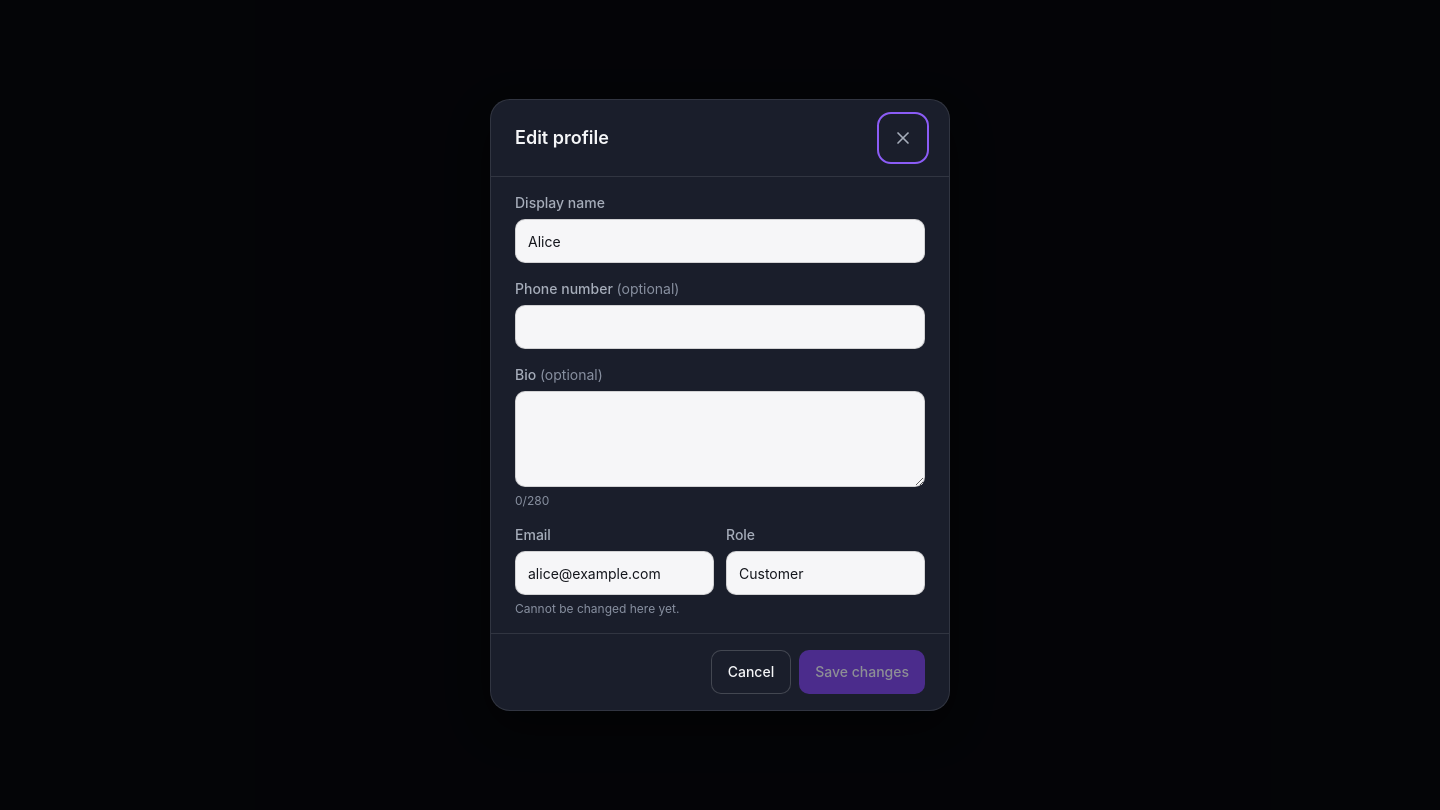
EditProfileModal › shows a validation error for an invalid phone number
In the field labelled "Phone number (optional)": (720, 327) x1=515 y1=305 x2=925 y2=349, type "not-a-phone!!"
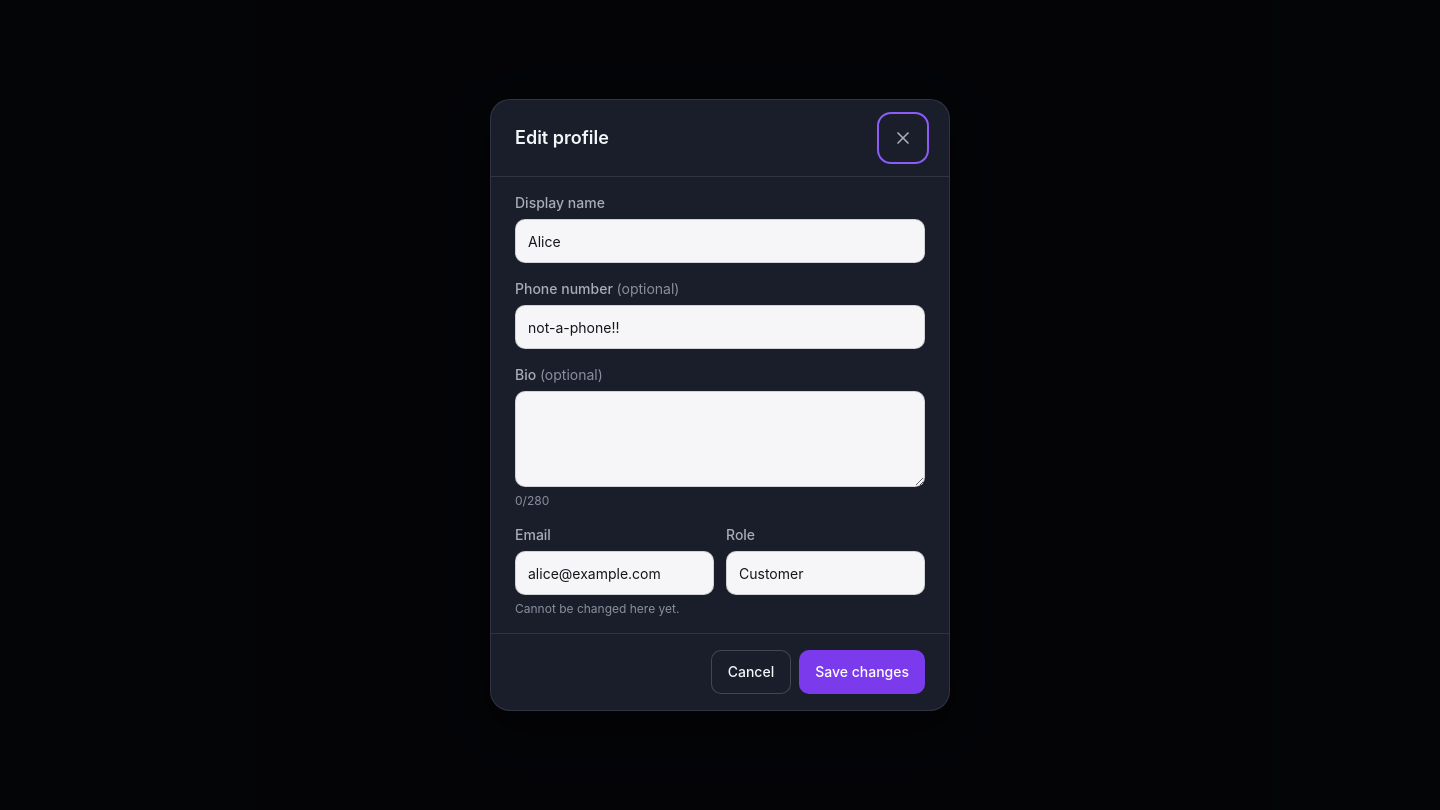
Click the button "Save changes": click(862, 672) x1=799 y1=650 x2=925 y2=694
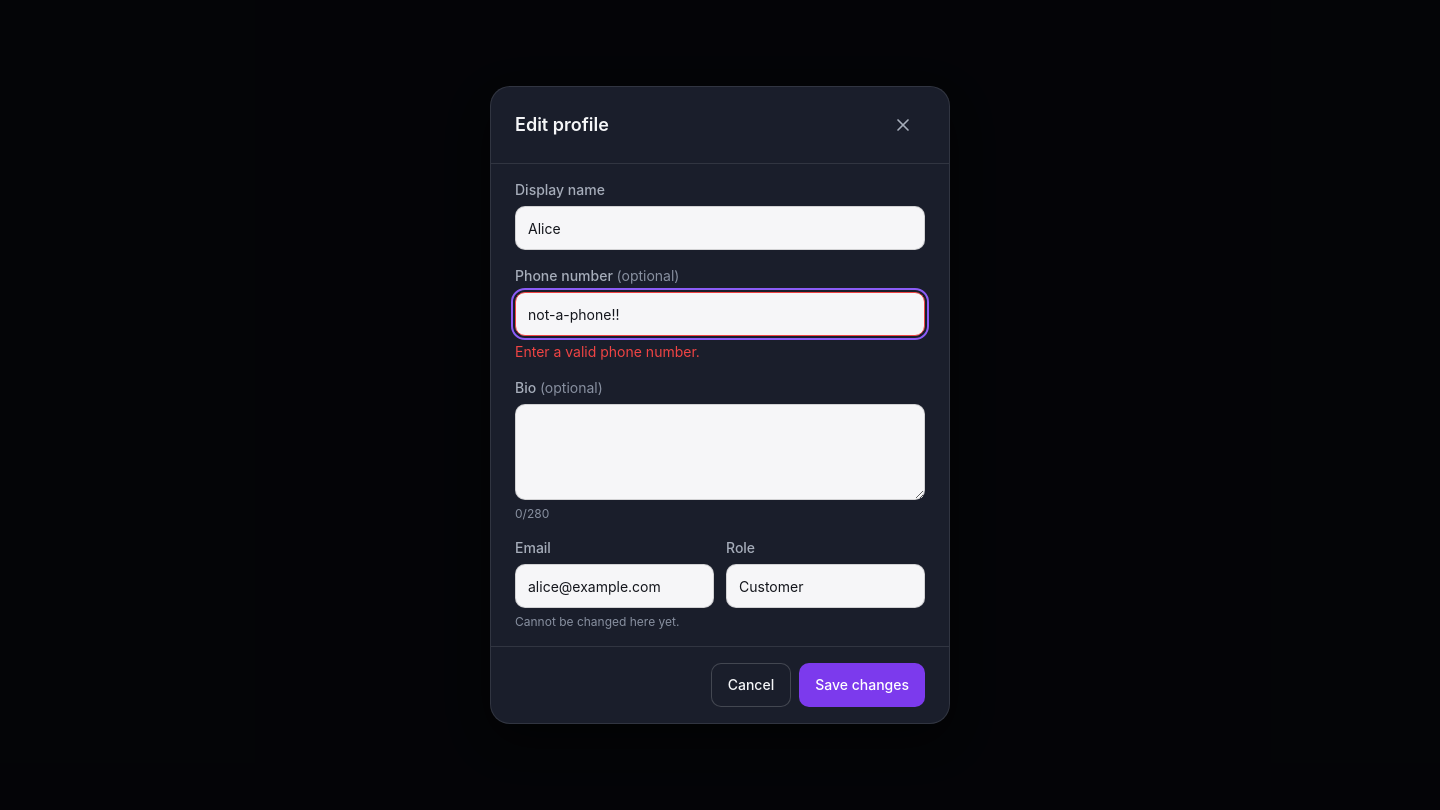
Now the text "Enter a valid phone number." is shown, box x1=515 y1=343 x2=700 y2=360
